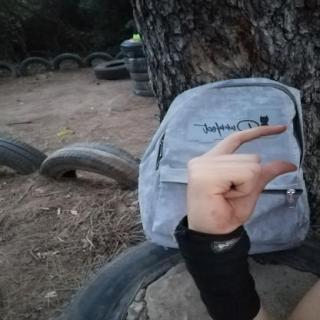DELL: (176, 116, 306, 247)
